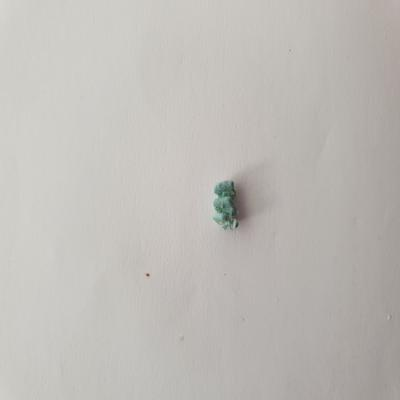plastic: (207, 174, 245, 236)
